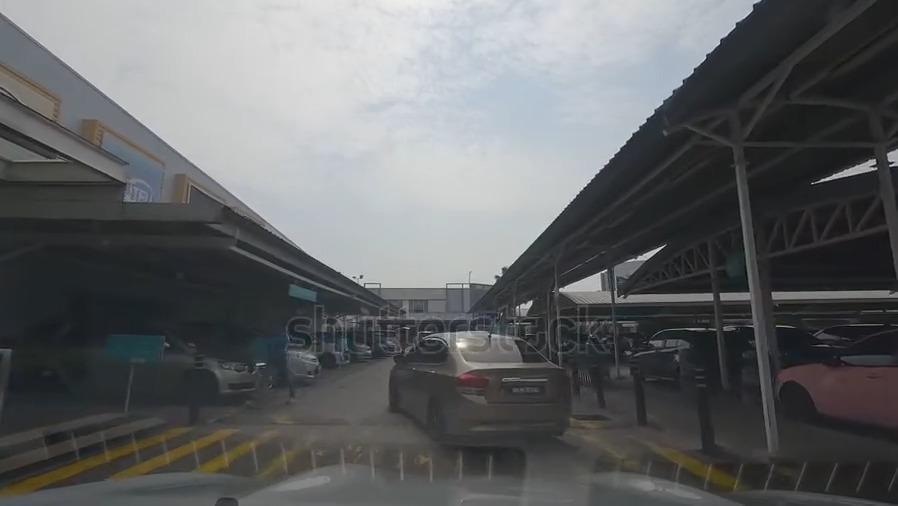car: (23, 320, 265, 403), (399, 331, 571, 439), (777, 331, 898, 422), (633, 327, 743, 381), (296, 330, 351, 371), (286, 347, 317, 383), (352, 340, 368, 362)
manhole: (572, 410, 609, 423)
pedestrian: (3, 435, 776, 492)
person: (257, 317, 292, 401)
speedbump: (221, 410, 630, 430)
wheel: (780, 382, 810, 426), (185, 368, 215, 399), (423, 400, 443, 444), (323, 351, 336, 372)
